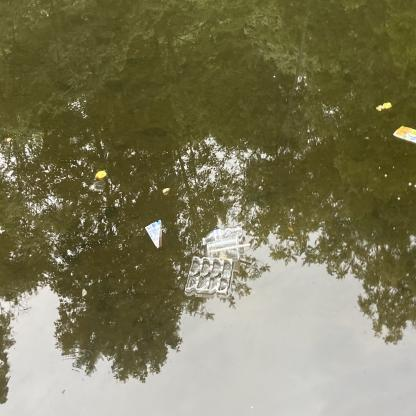trash: (183, 252, 238, 300), (205, 232, 254, 263), (202, 221, 246, 249), (142, 216, 167, 250), (390, 121, 416, 152)
